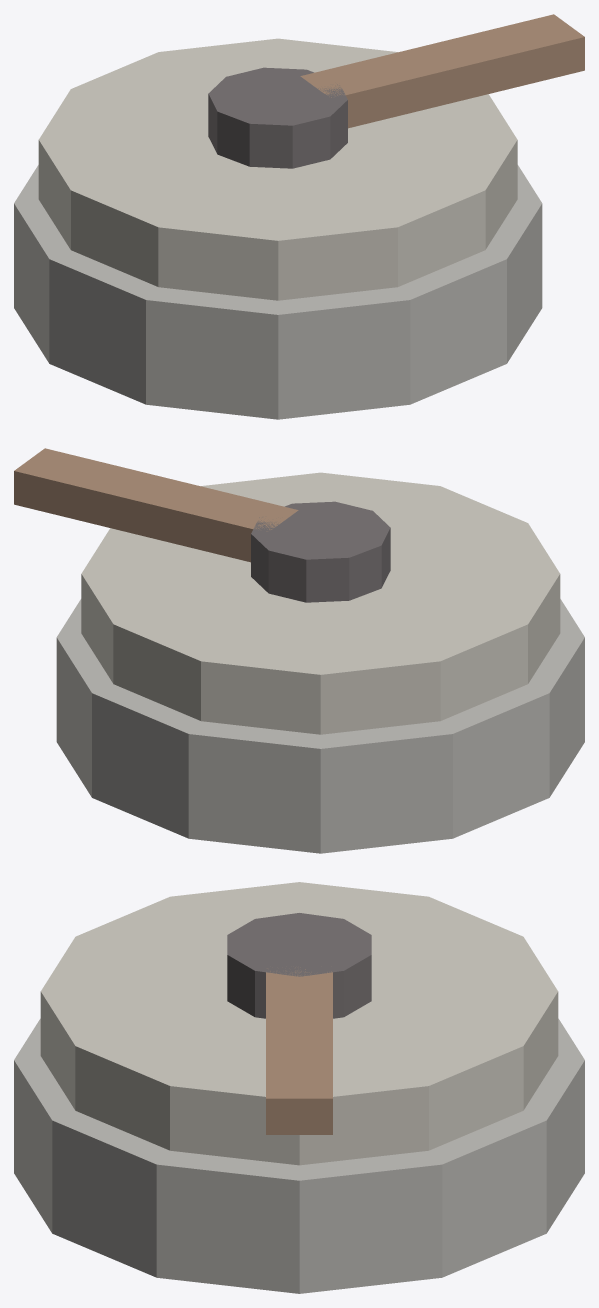
Rendered from village_grain_millstone.glb.
The picture shows the model from 3 angles, top to bottom: view 1: azimuth 30°, elevation 25°; view 2: azimuth 150°, elevation 25°; view 3: azimuth 270°, elevation 25°; orthographic projection. The views are drawn at different scales.
Parts seen in each view (by area): view 1: cylinder_1, cylinder_0, box_3, cylinder_2; view 2: cylinder_1, cylinder_0, box_3, cylinder_2; view 3: cylinder_1, cylinder_0, cylinder_2, box_3.
Part boxes in pixels (x1=…): cylinder_1: x1=38, y1=38, x2=517, y2=300; cylinder_0: x1=14, y1=165, x2=542, y2=419; box_3: x1=300, y1=14, x2=584, y2=128; cylinder_2: x1=208, y1=67, x2=347, y2=168; cylinder_1: x1=81, y1=472, x2=560, y2=734; cylinder_0: x1=56, y1=599, x2=584, y2=853; box_3: x1=14, y1=448, x2=298, y2=562; cylinder_2: x1=251, y1=501, x2=390, y2=602; cylinder_1: x1=40, y1=882, x2=558, y2=1165; cylinder_0: x1=14, y1=1018, x2=584, y2=1293; cylinder_2: x1=227, y1=913, x2=371, y2=1018; box_3: x1=266, y1=967, x2=332, y2=1134.
Bounding box in the file's own units: 1.45 × 0.565 × 1.28.
